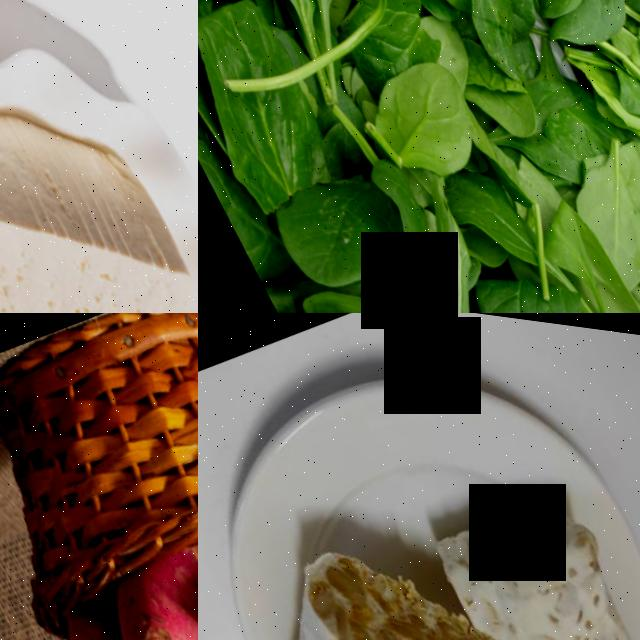spinach: (259, 150, 416, 307), (353, 40, 487, 191), (455, 231, 600, 313), (557, 139, 640, 270), (526, 0, 628, 44)
sweet potato: (87, 528, 198, 640)
tempeh: (236, 497, 525, 640), (426, 459, 639, 640)
tofu: (0, 67, 198, 313)
